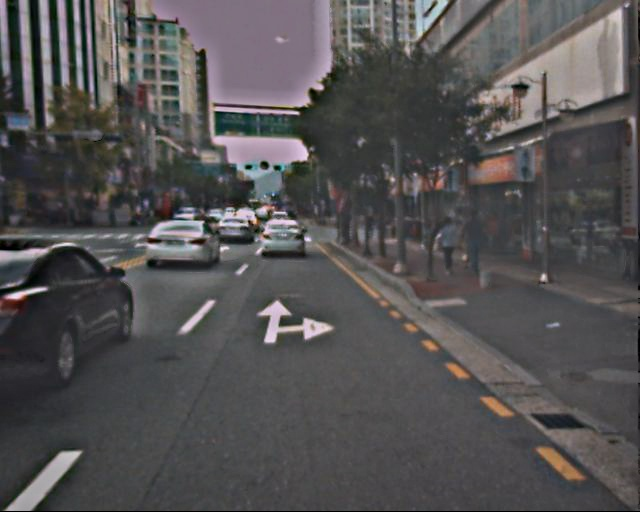person: (462, 208, 492, 277), (437, 213, 463, 277)
